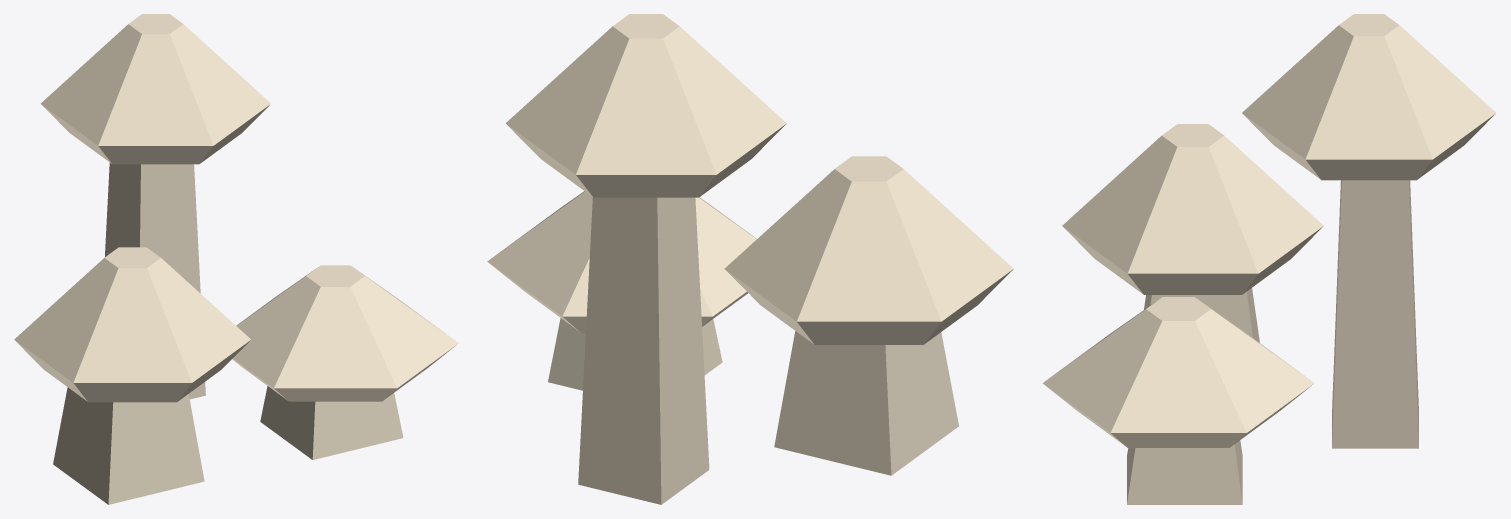
File: mushroom_tan.glb
3 views of the same model, side by side, from view 1: azimuth 30°, elevation 25°; view 2: azimuth 150°, elevation 25°; view 3: azimuth 270°, elevation 25° (orthographic). The views are drawn at different scales.
Visible parts, largest first — view 1: mushroom_tanGroup; view 2: mushroom_tanGroup; view 3: mushroom_tanGroup.
Boxes of the visible parts, x1,y1,x2,y2 form: mushroom_tanGroup: (14, 14, 458, 504); mushroom_tanGroup: (487, 14, 1013, 504); mushroom_tanGroup: (1042, 14, 1495, 504).
Size of the model in its own units: 0.5393 by 0.501 by 0.5084.
